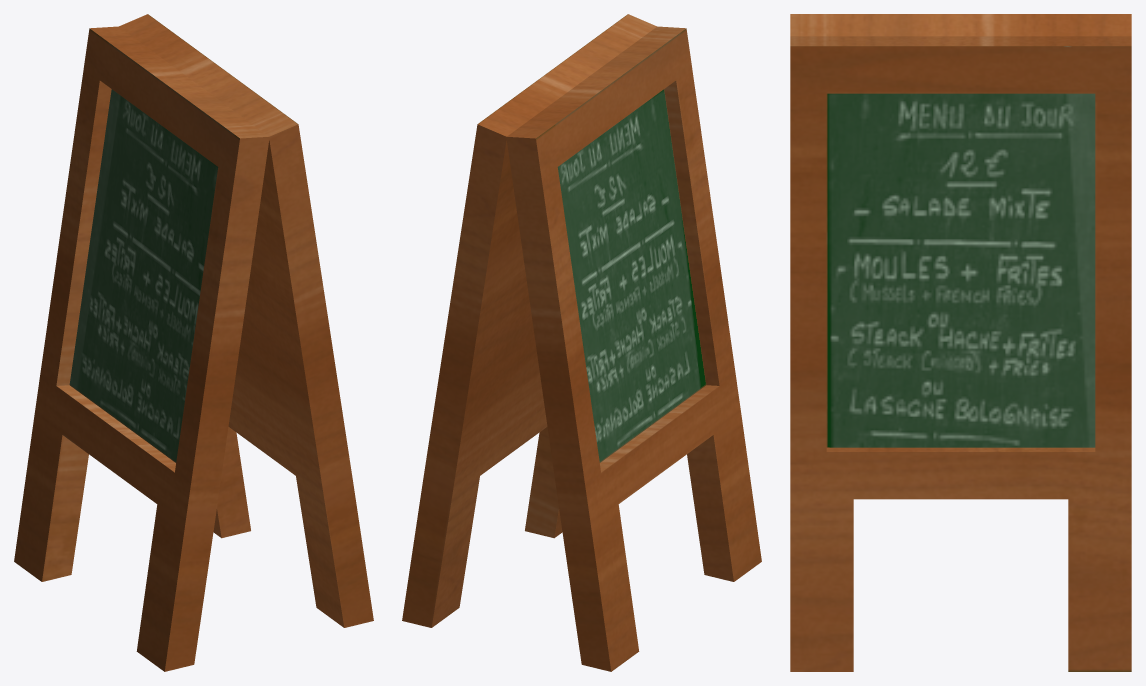
File: Props_Board_1.fbx
3 renders of one model, left to right at view 1: azimuth 30°, elevation 25°; view 2: azimuth 150°, elevation 25°; view 3: azimuth 270°, elevation 25°, orthographic. The views are drawn at different scales.
Visible parts, largest first — view 1: Props_Board_1; view 2: Props_Board_1; view 3: Props_Board_1.
Part boxes in pixels (x1,y1,x2,y2): Props_Board_1: [14, 14, 373, 671]; Props_Board_1: [402, 14, 761, 671]; Props_Board_1: [790, 14, 1131, 671].
Size of the model in its own units: 74.66 by 176 by 93.08.
